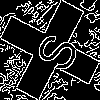S: (25, 25, 82, 76)
